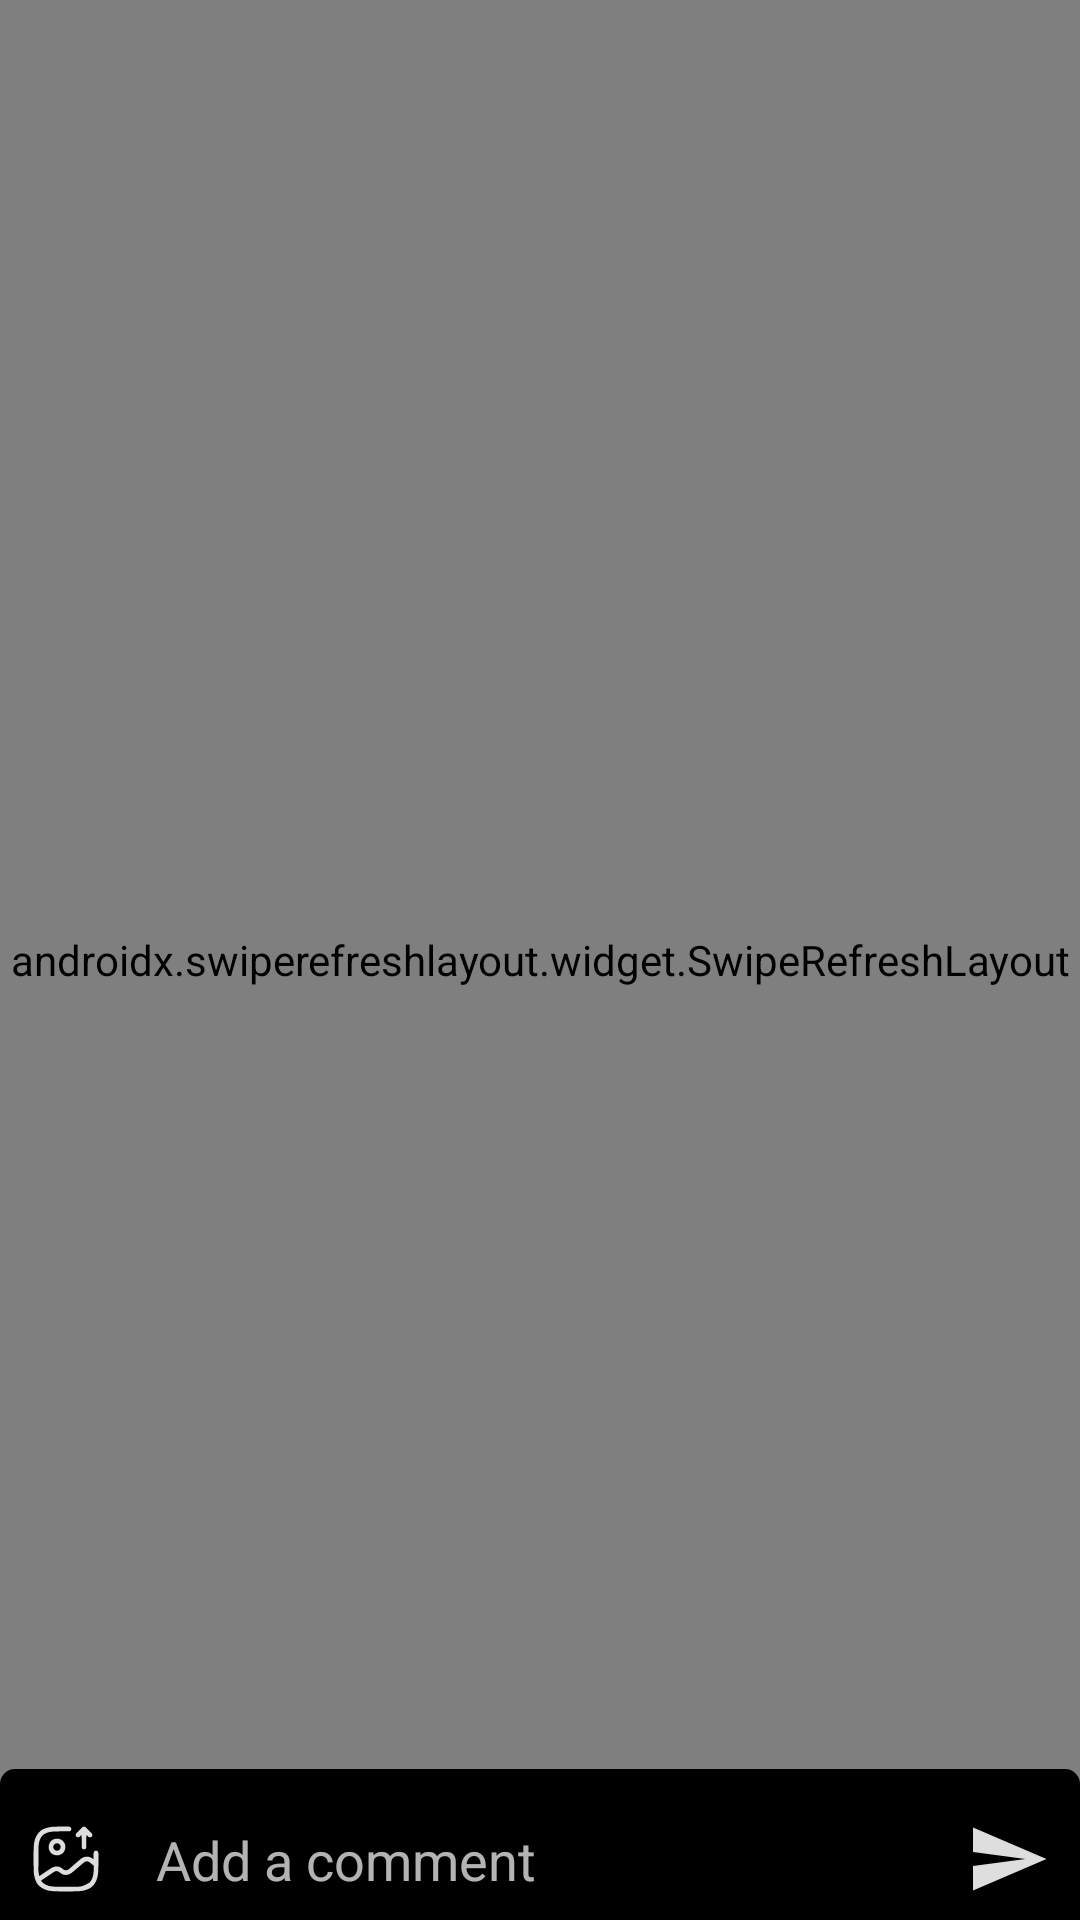

Screen size 1080w x 1920h. Icon name, then its box in pixels as [x1, y1, x2, y2]:
send: [973, 1827, 1046, 1891]
upload: [33, 1826, 99, 1892]
